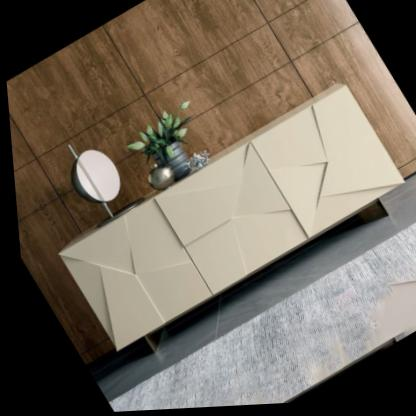Sideboard: (52, 86, 402, 355)
